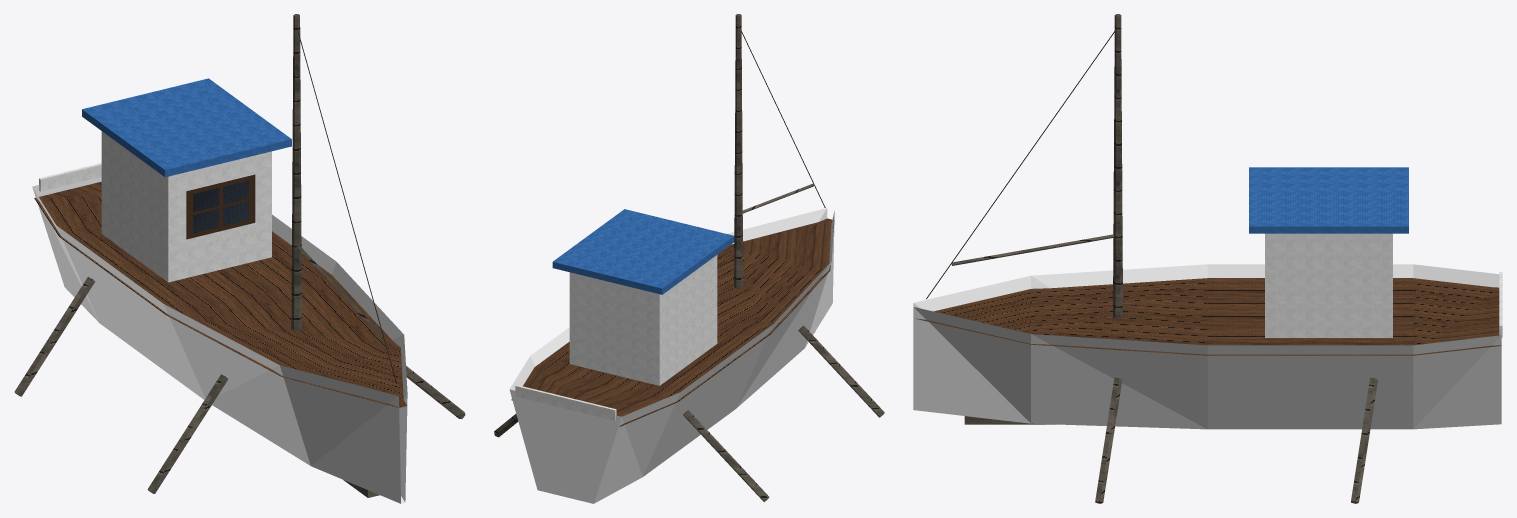
Rendered from barco.obj.
The picture shows the model from 3 angles, left to right: view 1: azimuth 30°, elevation 25°; view 2: azimuth 150°, elevation 25°; view 3: azimuth 270°, elevation 25°; orthographic projection. The views are drawn at different scales.
Parts seen in each view (by area): view 1: barco; view 2: barco; view 3: barco.
Boxes of the visible parts, x1=… form: barco: x1=14, y1=14, x2=465, y2=503; barco: x1=494, y1=14, x2=884, y2=503; barco: x1=913, y1=14, x2=1502, y2=503.
Size of the model in its own units: 5.5 by 7.2 by 9.21.
Materials: 7 (6 with a texture image).
